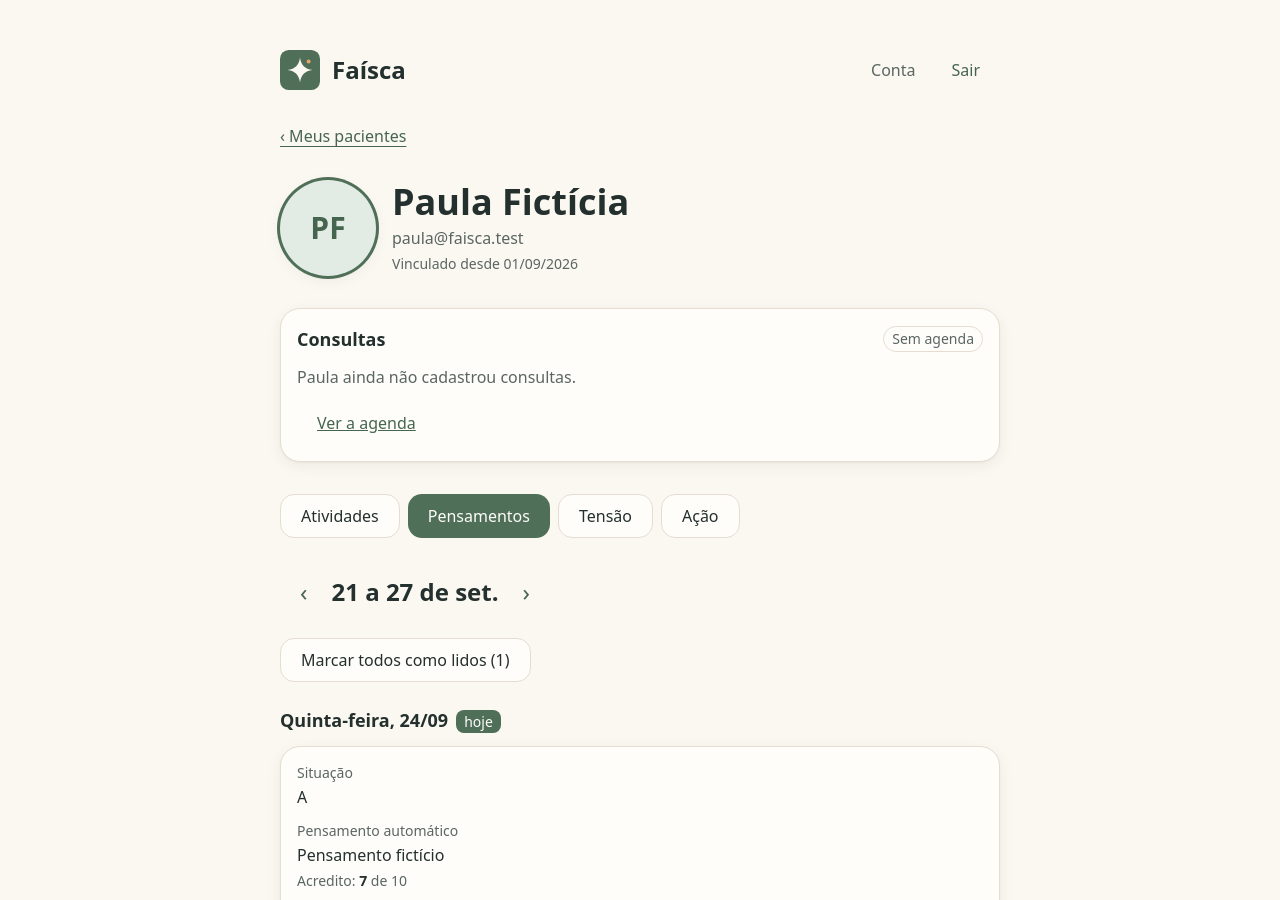
Test case: "Marcar todos como lidos" › se não gravar, o aviso aparece no diálogo, que continua aberto
The width and height of the screenshot is (1280, 900).
Click the button "Marcar todos como lidos (1)". click: (405,660)
box: [280, 638, 530, 682]
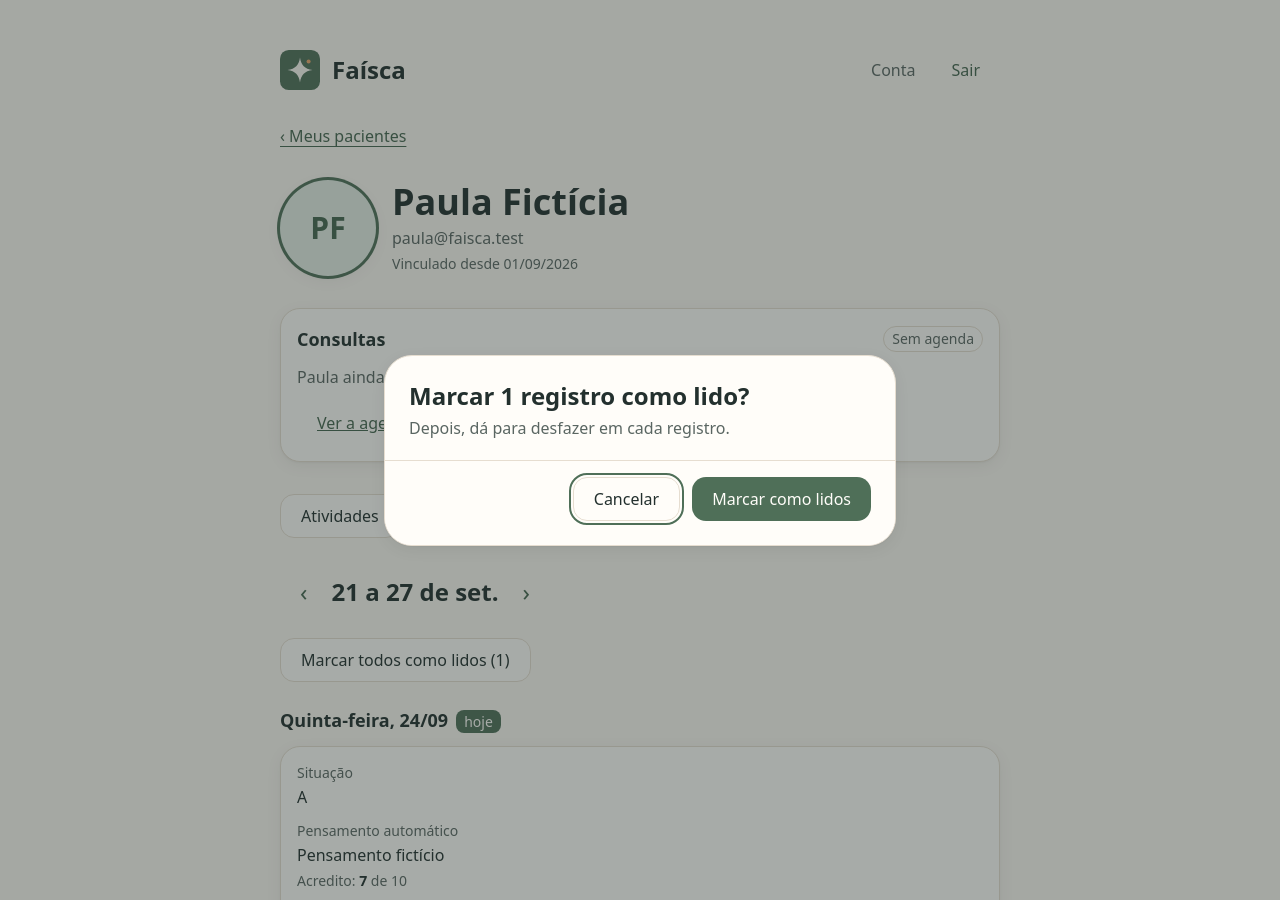
Click the button "Marcar como lidos". click: (782,498)
box: [692, 476, 871, 520]
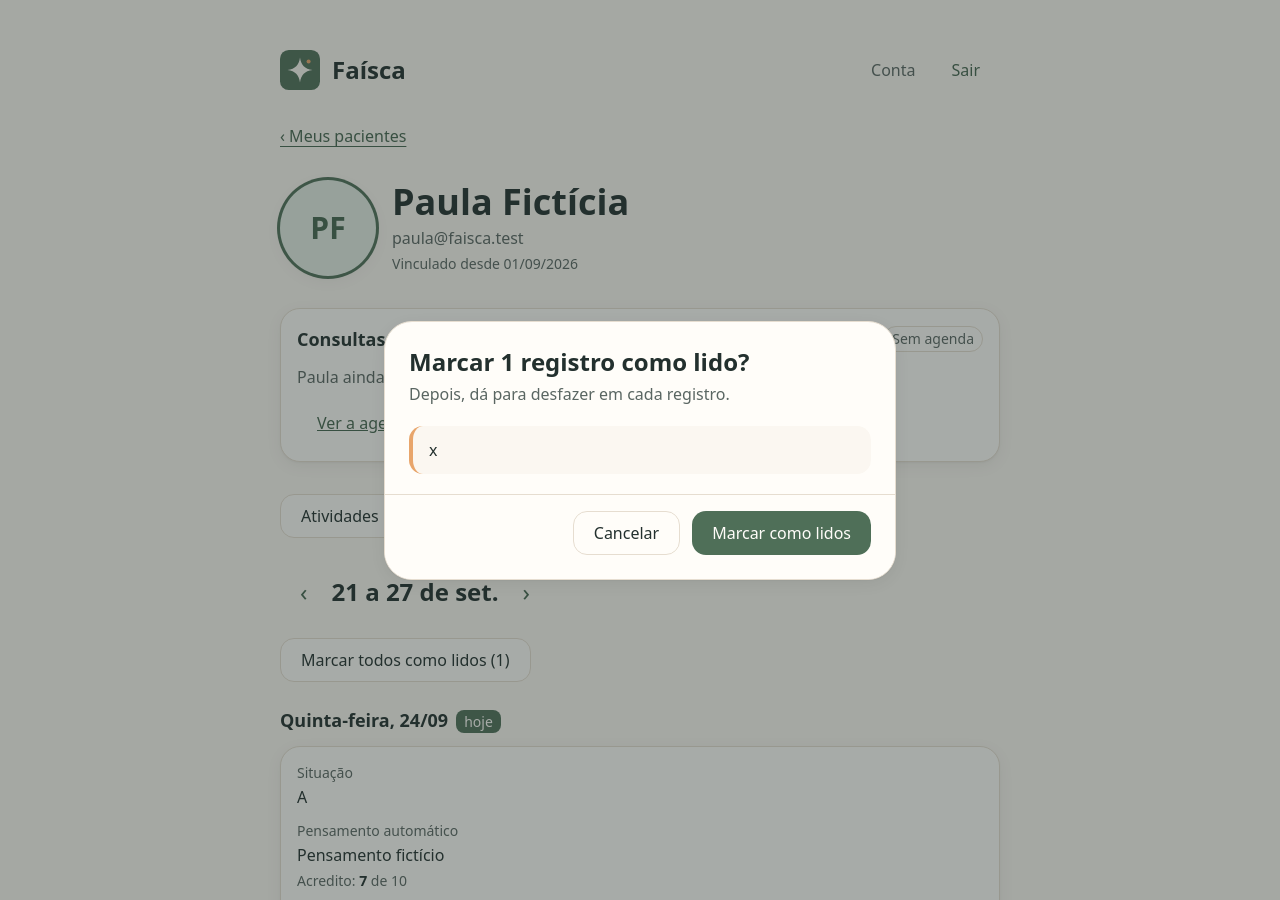
Check: the message "x" is shown, box [409, 426, 871, 474]
